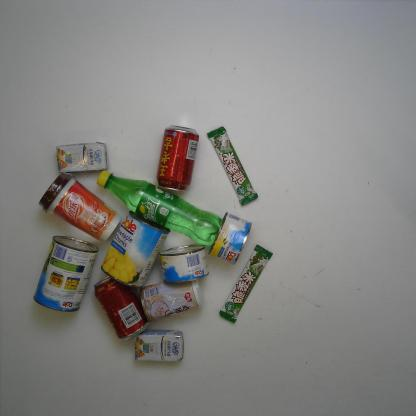Canned Food: (100, 210, 171, 290), (32, 235, 100, 314), (140, 278, 204, 323), (207, 210, 254, 265), (158, 244, 210, 284)
Chocolate: (218, 243, 274, 323), (206, 124, 260, 206)
Drink: (96, 169, 225, 247), (93, 275, 152, 341), (155, 124, 200, 192)
Instant Drink: (36, 171, 124, 242)
Milk: (54, 141, 110, 174), (134, 329, 184, 362)
